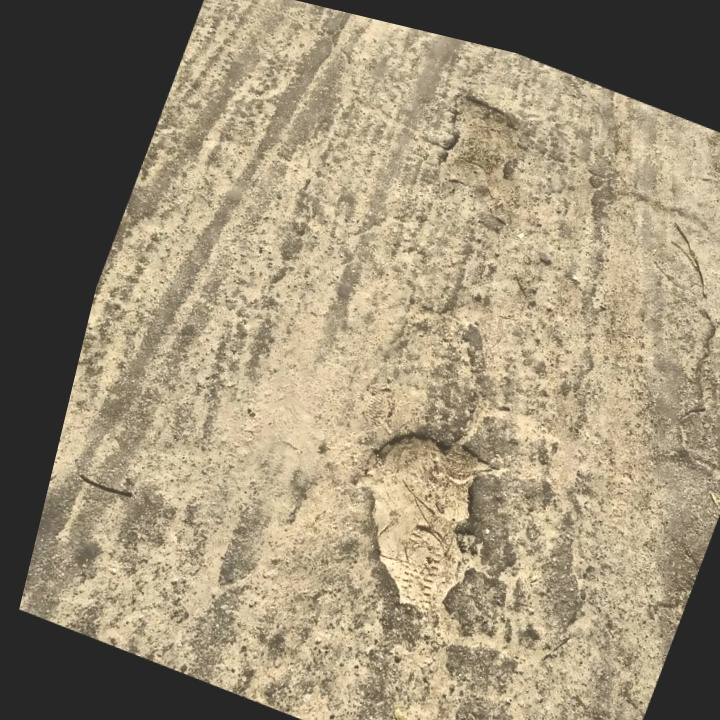pothole: (317, 399, 527, 636), (423, 83, 544, 210)
